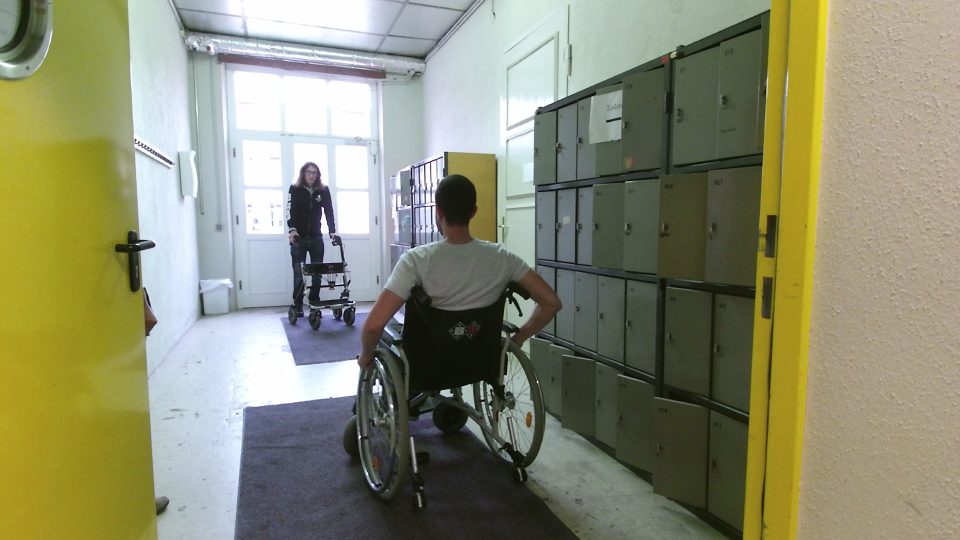wheelchair: (336, 171, 567, 516)
